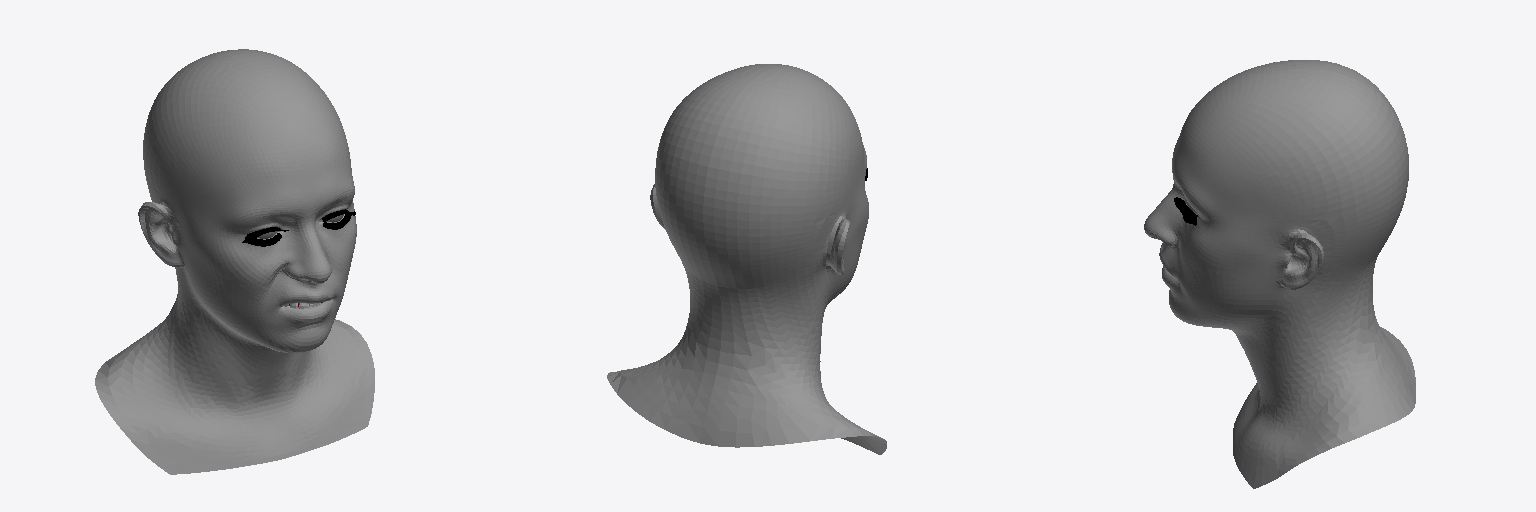
File: mouthUpperUp_R.obj
3 renders of one model, left to right at view 1: azimuth 30°, elevation 25°; view 2: azimuth 150°, elevation 25°; view 3: azimuth 270°, elevation 25°, orthographic.
Bounding box in the file's own units: 24.83 × 33.81 × 22.3.